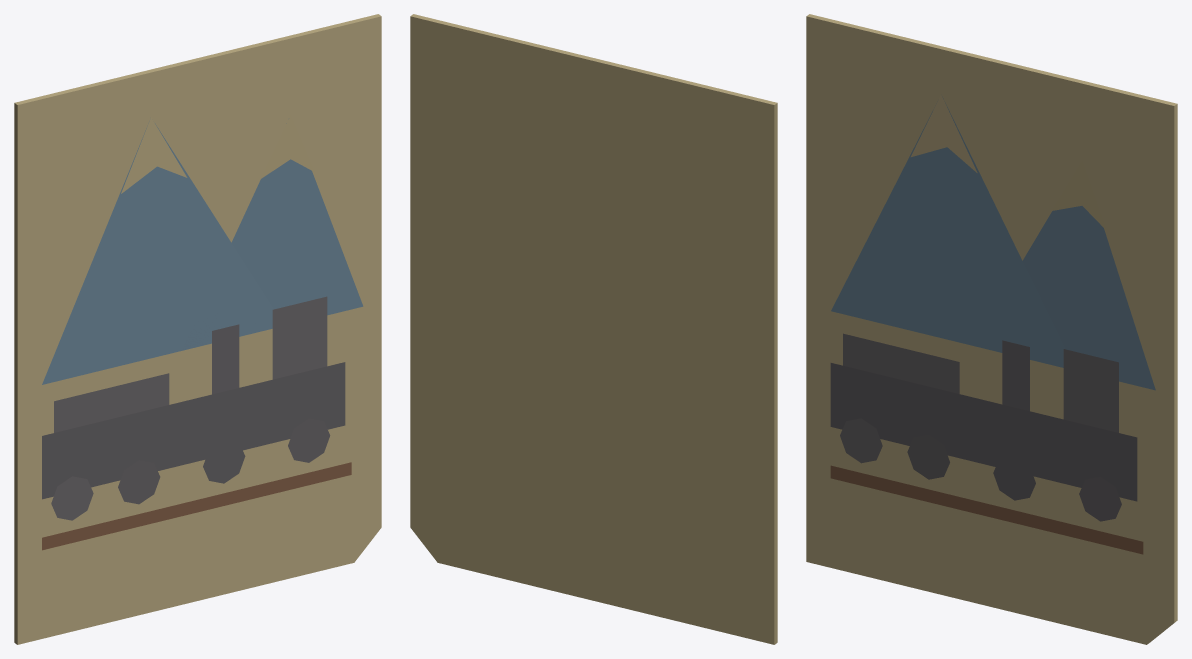
Rendered from wall_poster.glb.
The picture shows the model from 3 angles, left to right: view 1: azimuth 30°, elevation 25°; view 2: azimuth 150°, elevation 25°; view 3: azimuth 330°, elevation 25°; orthographic projection.
Parts seen in each view (by area): view 1: wall_poster; view 2: wall_poster; view 3: wall_poster.
Boxes of the visible parts, x1=… form: wall_poster: x1=14, y1=14, x2=381, y2=644; wall_poster: x1=410, y1=14, x2=777, y2=644; wall_poster: x1=806, y1=14, x2=1177, y2=644.
Size of the model in its own units: 0.6 by 0.85 by 0.01.
